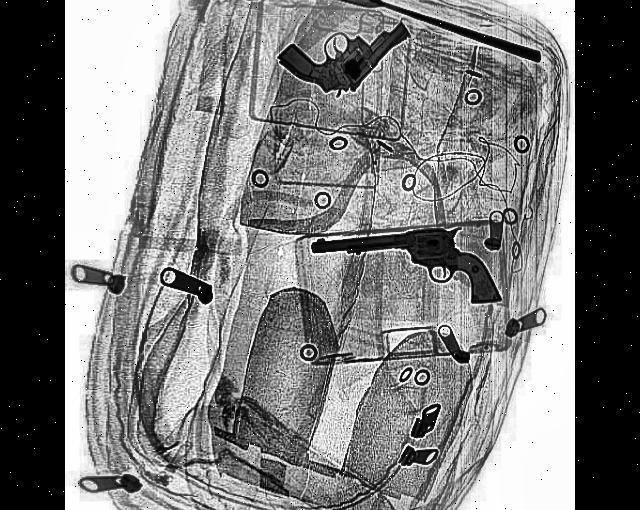Gun: (310, 220, 500, 322), (274, 0, 411, 133)
Knife: (247, 0, 540, 71)
